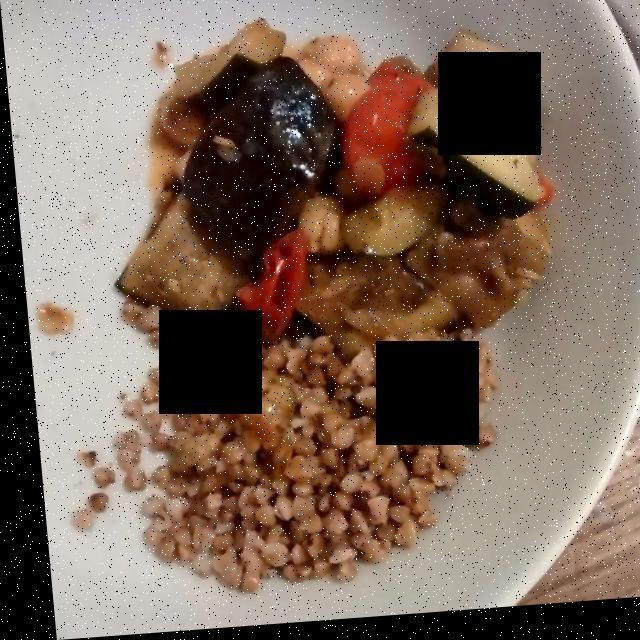grain: (65, 337, 480, 591)
ratatouille: (123, 29, 539, 345)
